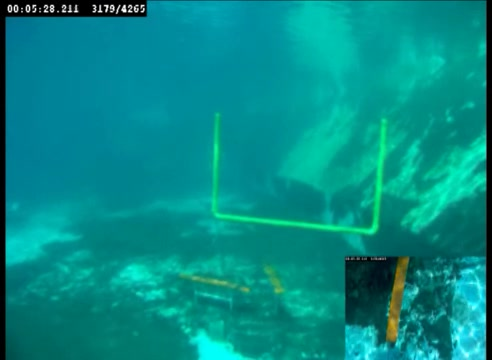channel: (206, 106, 395, 237)
